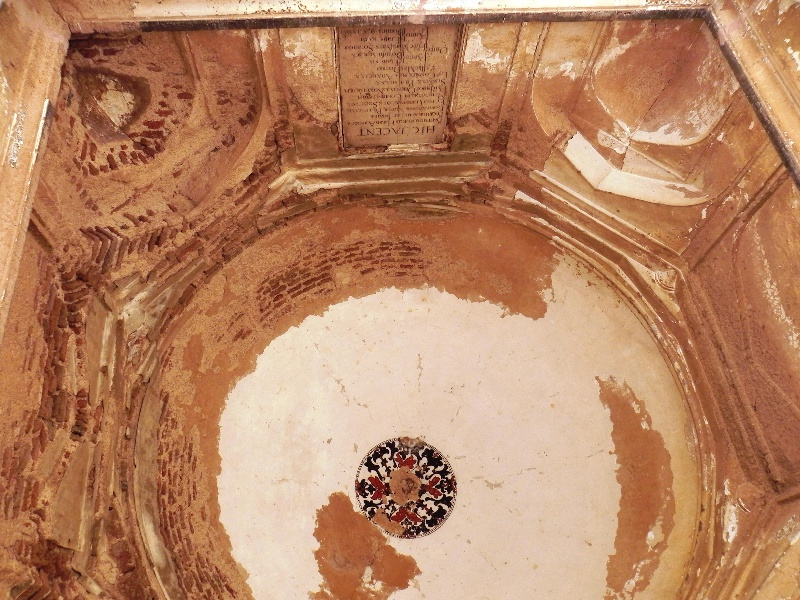Exposed Bricks: (8, 200, 219, 595), (260, 238, 424, 323)
Spalling: (595, 367, 677, 599)
